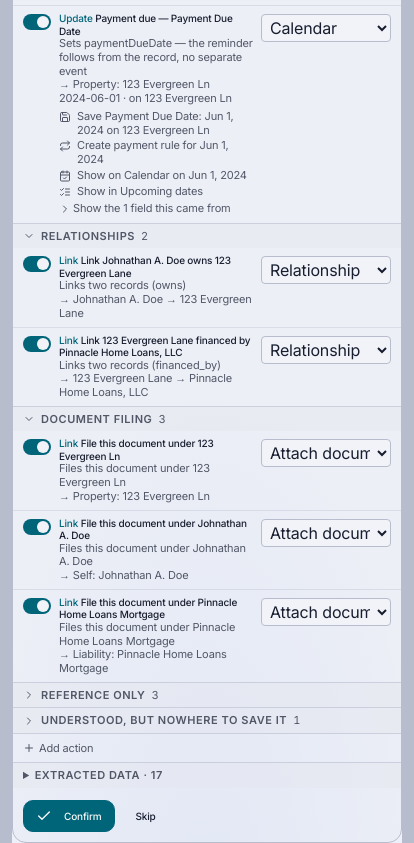
the review pane leads with meaning, not with 75 rows › shows the evidence behind a claim, so 'these three fields are one bill' is checkable
The image size is (414, 843).
(page scrolled)
Click the button with test id "action-group-toggle-unsupported": {"x": 207, "y": 721} [13,708,401,733]
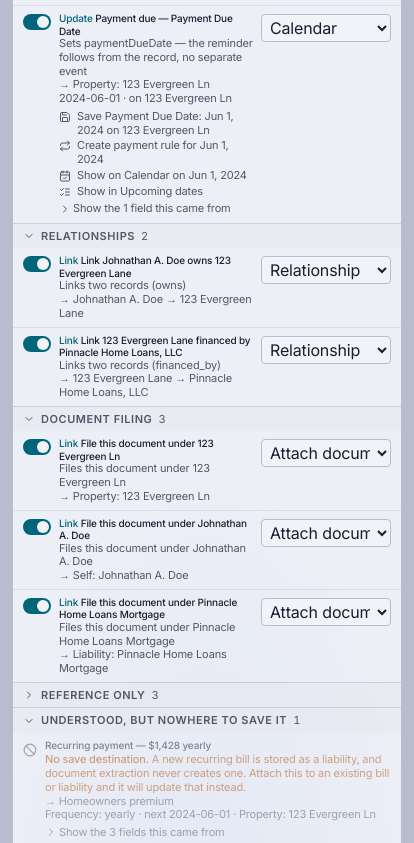
Now the button with test id "action-evidence-toggle-" shows "3 fields this came from"
Click the button with test id "action-evidence-toggle-": {"x": 135, "y": 832} [45,824,225,840]
(page scrolled)
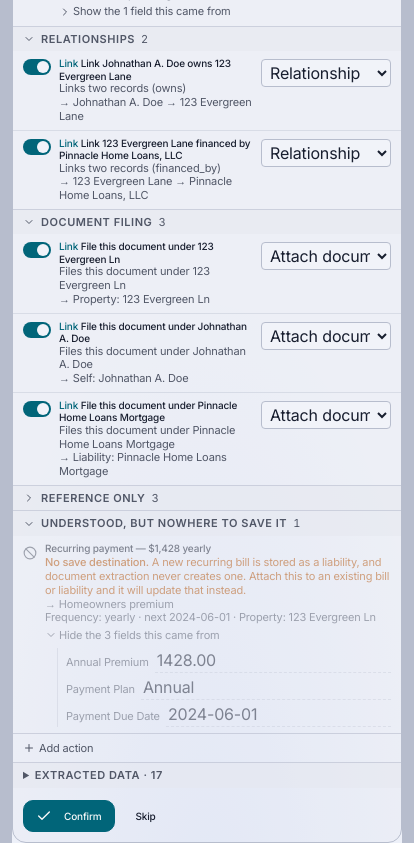
Now the element with test id "^action-evidence-act-" shows "Annual Premium", box [66,654,149,668]
Now the element with test id "^action-evidence-act-" shows "Payment Plan", box [66,682,135,696]
